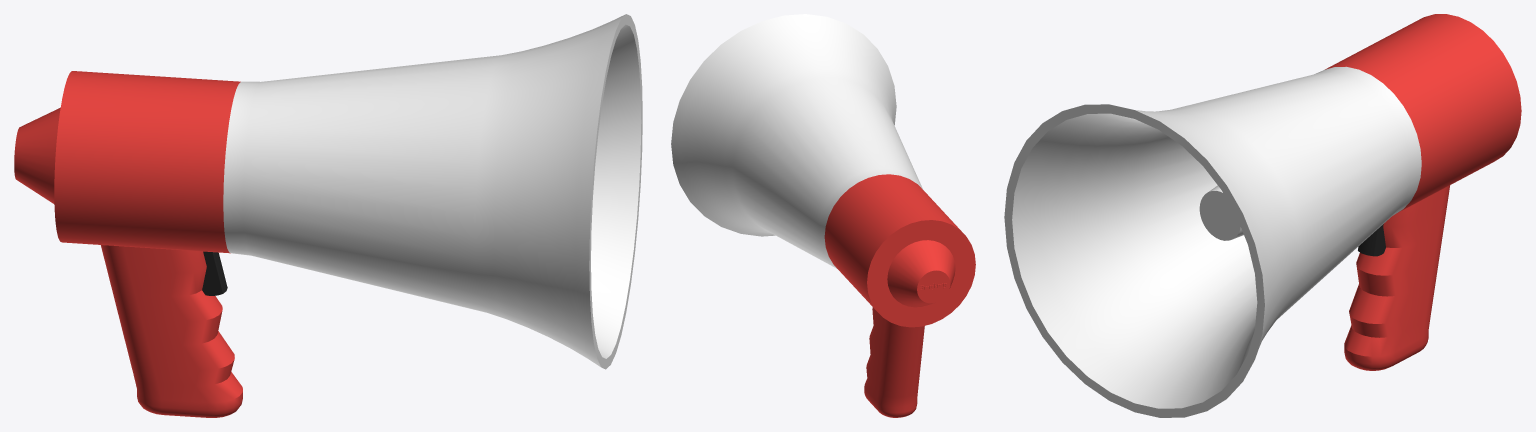
Rendered from loudspeaker.glb.
3 views of the same model, side by side, from view 1: azimuth 30°, elevation 25°; view 2: azimuth 150°, elevation 25°; view 3: azimuth 270°, elevation 25° (orthographic). The views are drawn at different scales.
Parts seen in each view (by area): view 1: Circle.2548; view 2: Circle.2548; view 3: Circle.2548.
Boxes of the visible parts, <box> form: Circle.2548: <box>14,14,642,417</box>; Circle.2548: <box>671,14,975,417</box>; Circle.2548: <box>1004,14,1521,417</box>.
Bounding box in the file's own units: 2.29 × 1.71 × 2.11.
1 material, 1 textured.
